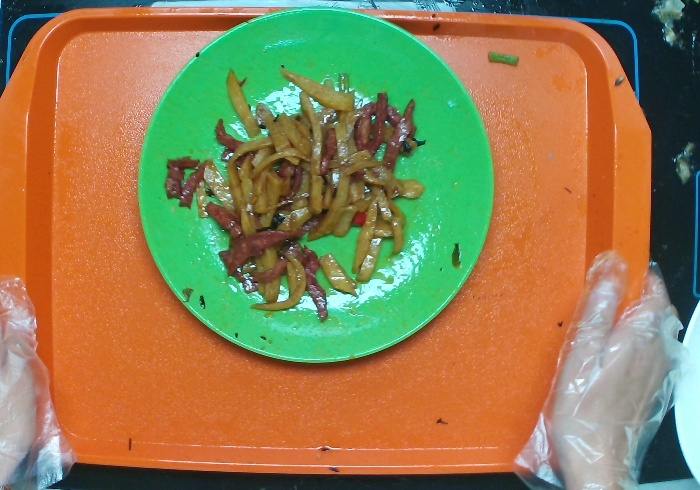HZYJPL-Lv_Se_Yuan_Pan: (132, 1, 500, 370)
